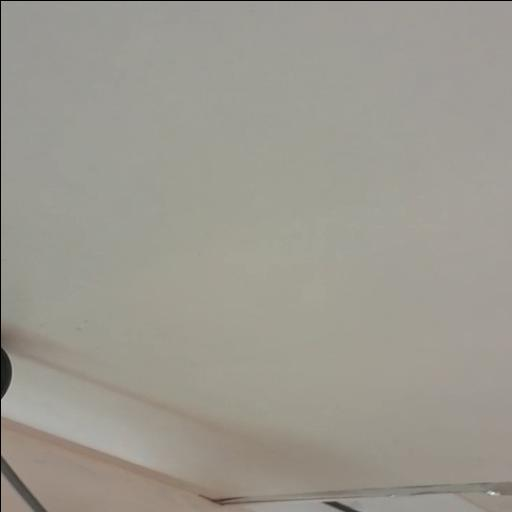dead: (0, 346, 13, 401)
